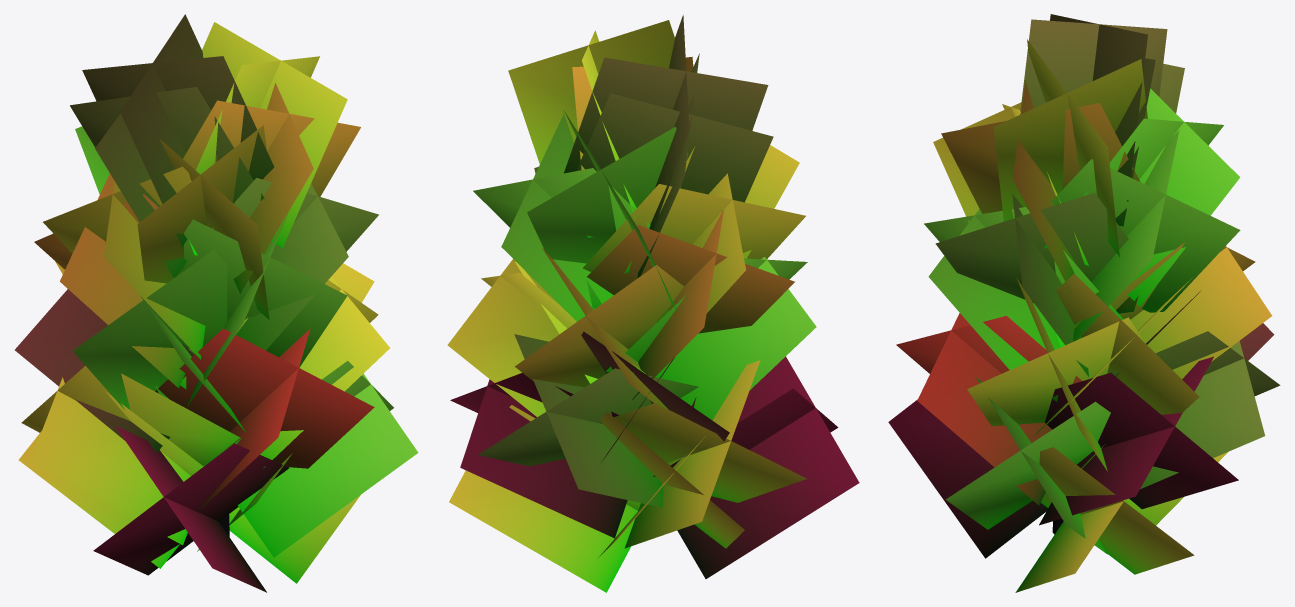
The model's file is Tree_6.fbx.
3 renders of one model, left to right at view 1: azimuth 30°, elevation 25°; view 2: azimuth 150°, elevation 25°; view 3: azimuth 270°, elevation 25°, orthographic.
Visible parts, largest first — view 1: Tree_6; view 2: Tree_6; view 3: Tree_6.
Boxes of the visible parts, x1,y1,x2,y2 form: Tree_6: (15, 14, 418, 592); Tree_6: (447, 15, 859, 592); Tree_6: (888, 14, 1280, 592).
Bounding box in the file's own units: 1089 × 1607 × 1052.
